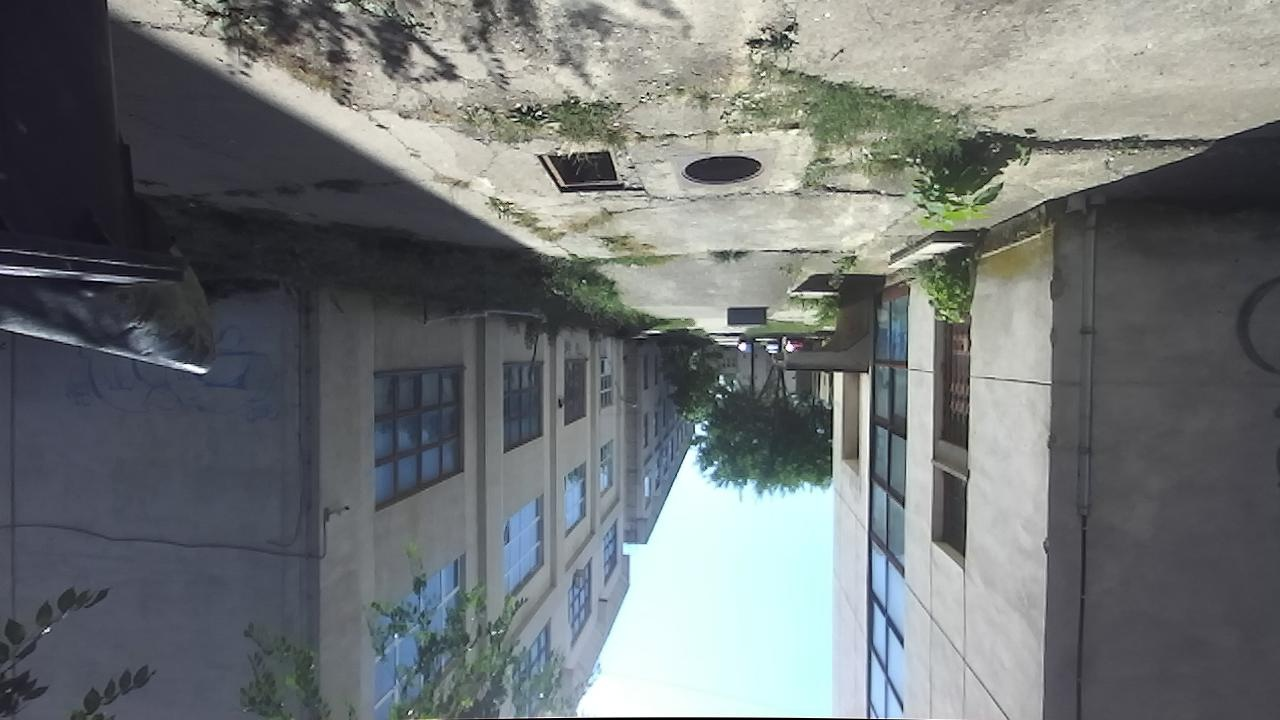drain: (530, 146, 629, 196), (674, 151, 770, 191)
